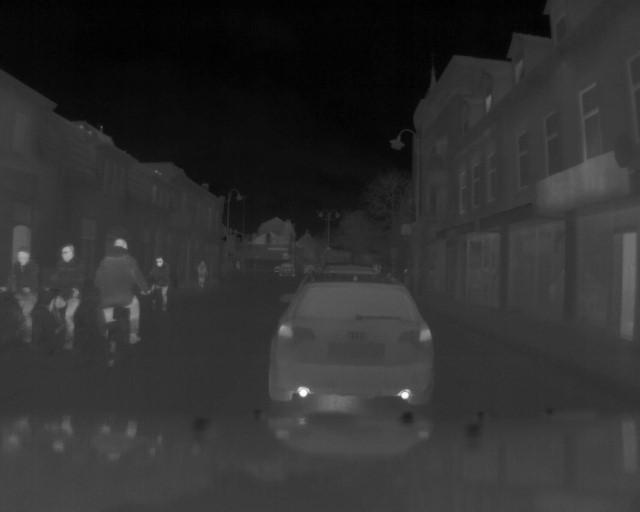car: (265, 269, 432, 407)
person: (97, 237, 145, 348), (50, 240, 84, 356), (5, 242, 41, 348), (149, 256, 172, 315), (194, 258, 209, 293)
